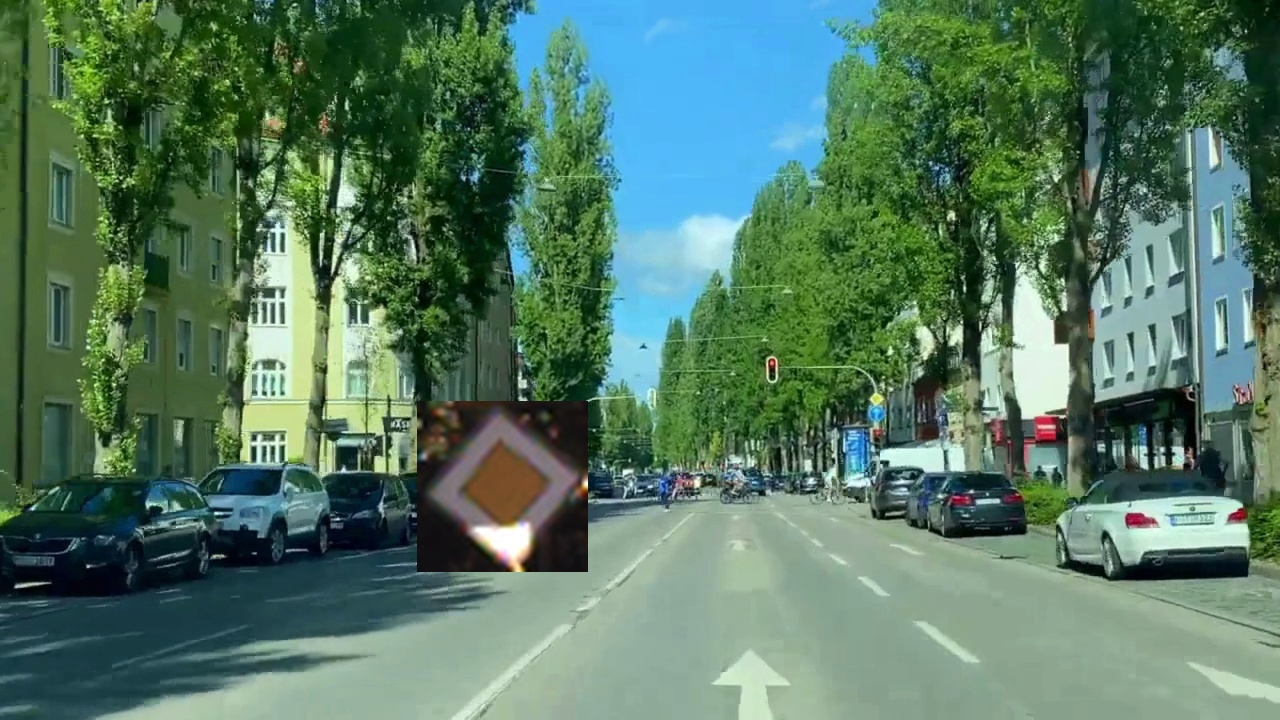Priority road: (417, 401, 588, 572)
